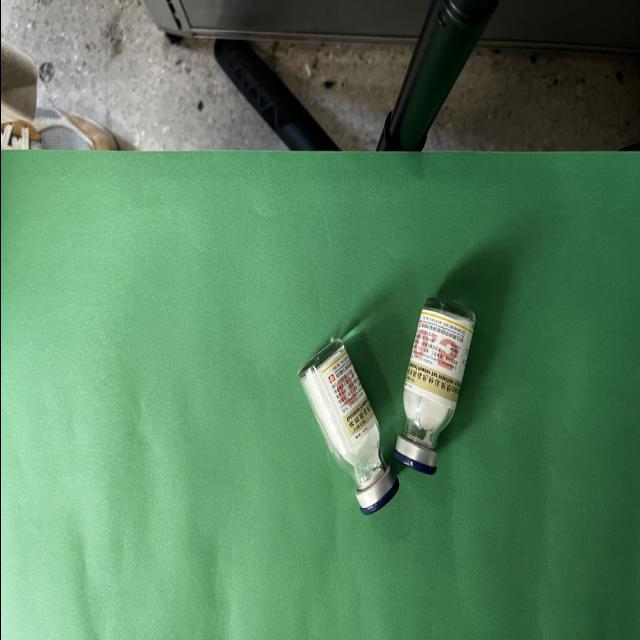Vials: (296, 338, 399, 515), (392, 296, 476, 475)
